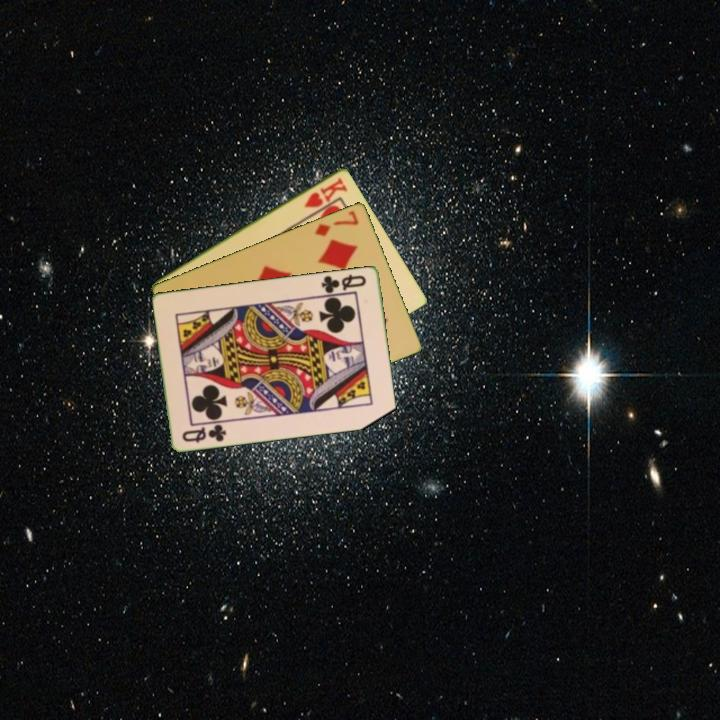7d: (311, 207, 362, 239)
Kh: (301, 173, 350, 210)
Qc: (318, 270, 369, 296), (179, 420, 229, 445)
